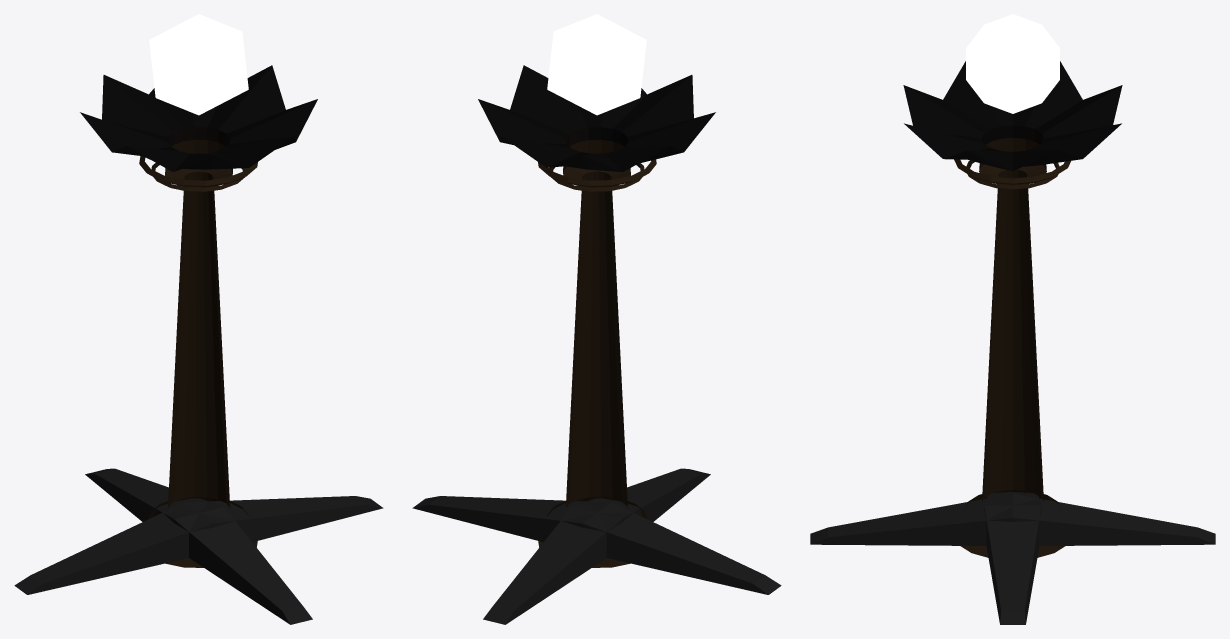
File: Totem.glb
3 renders of one model, left to right at view 1: azimuth 30°, elevation 25°; view 2: azimuth 150°, elevation 25°; view 3: azimuth 270°, elevation 25°, orthographic.
Visible parts, largest first — view 1: Totem, Orb; view 2: Totem, Orb; view 3: Totem, Orb.
Part boxes in pixels (x1,y1,x2,y2): Totem: (14, 65, 383, 624); Orb: (149, 14, 248, 115); Totem: (412, 65, 781, 624); Orb: (547, 14, 646, 115); Totem: (810, 61, 1215, 624); Orb: (966, 14, 1059, 113).
Size of the model in its own units: 1.04 by 1.48 by 1.04.
2 materials, 1 textured.
